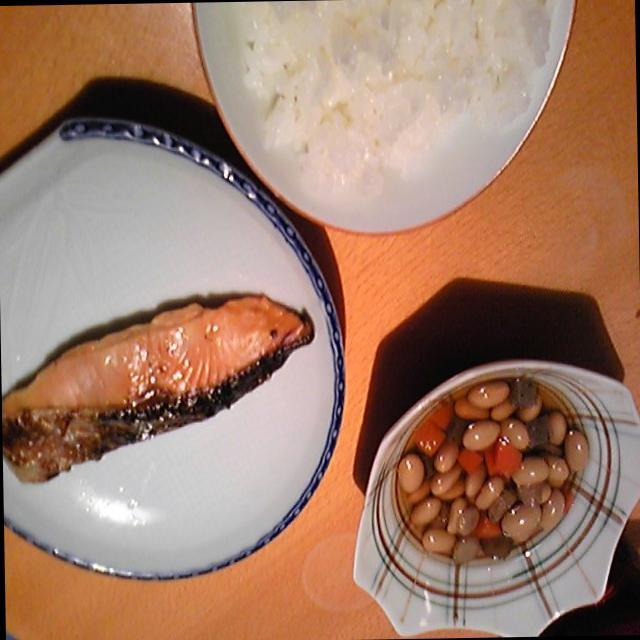Rice: (234, 1, 558, 204)
